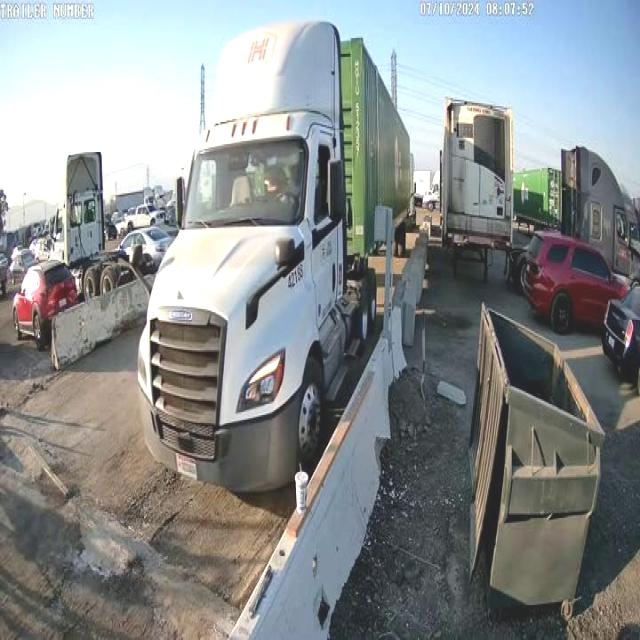CONTAINER: (324, 38, 409, 276)
